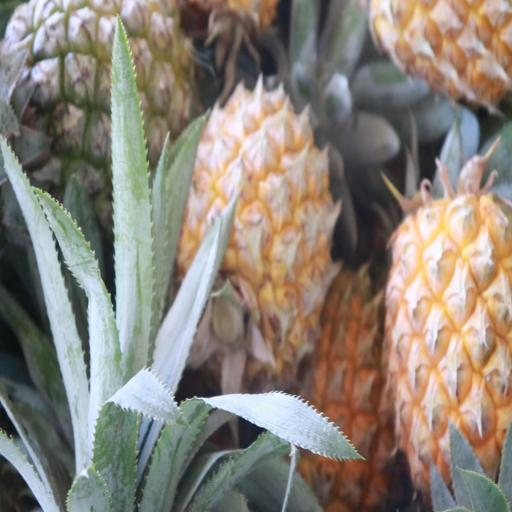Pineapple - v8 v1: (178, 88, 335, 372), (382, 202, 512, 498), (296, 269, 402, 512)
